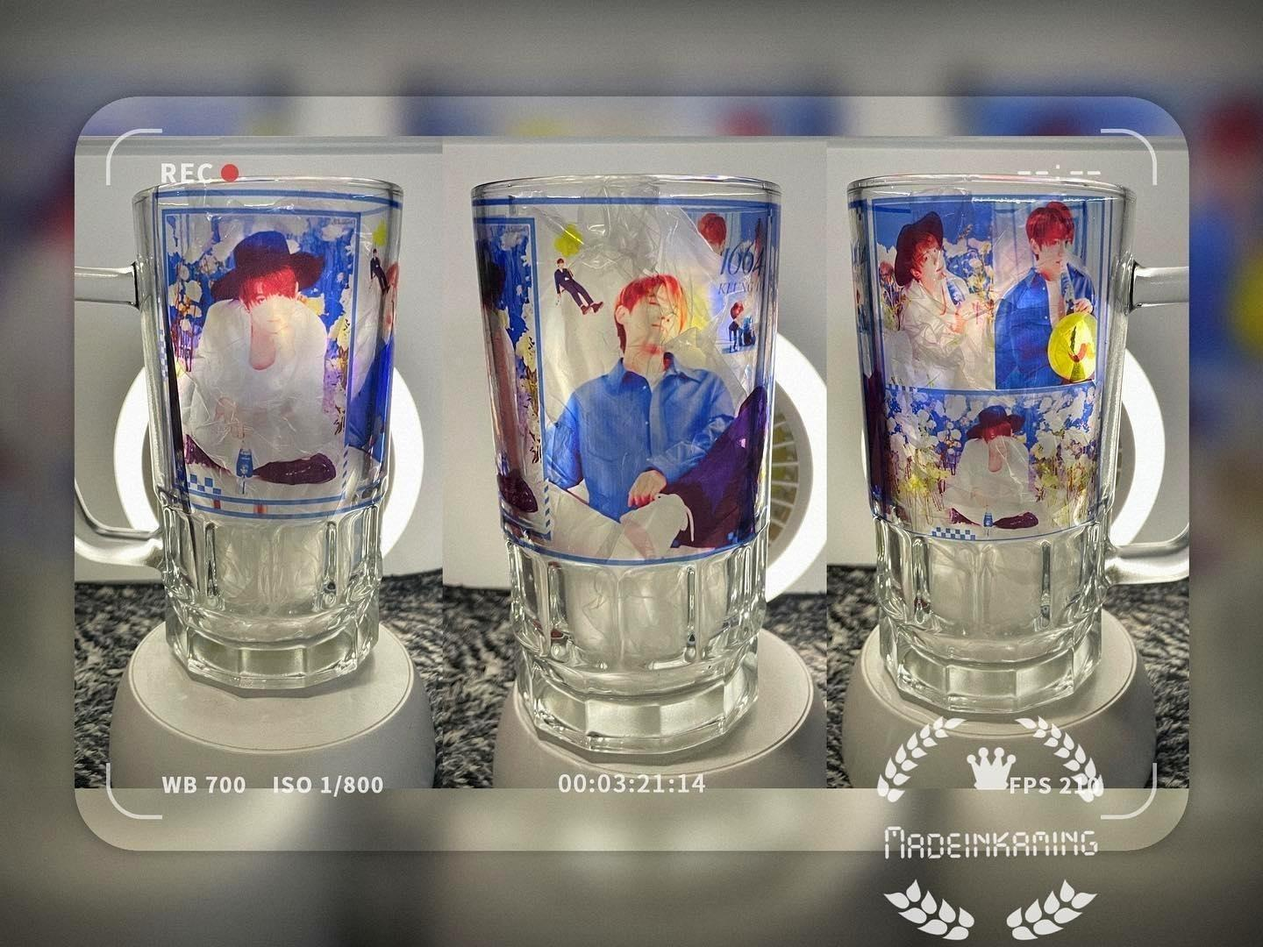glass-mug: (32, 162, 411, 705), (463, 162, 784, 761), (847, 161, 1194, 715)
